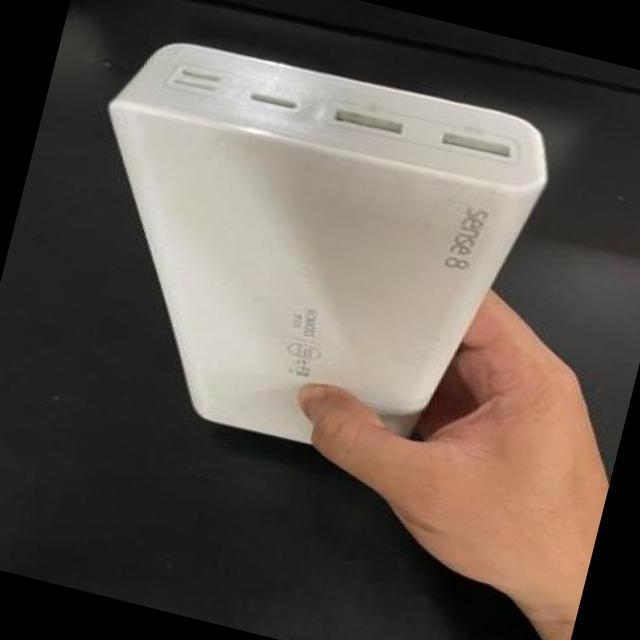portable-charger: (22, 6, 596, 503)
